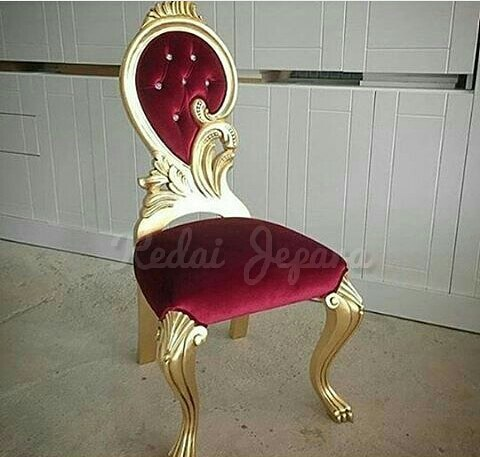Carving Chair: (103, 17, 380, 429)
